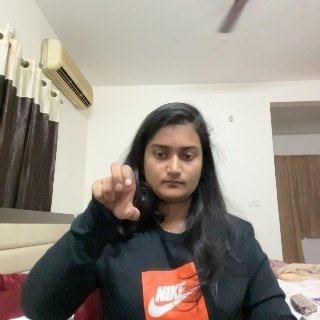Face: (140, 106, 205, 205)
No: (87, 159, 141, 242)
